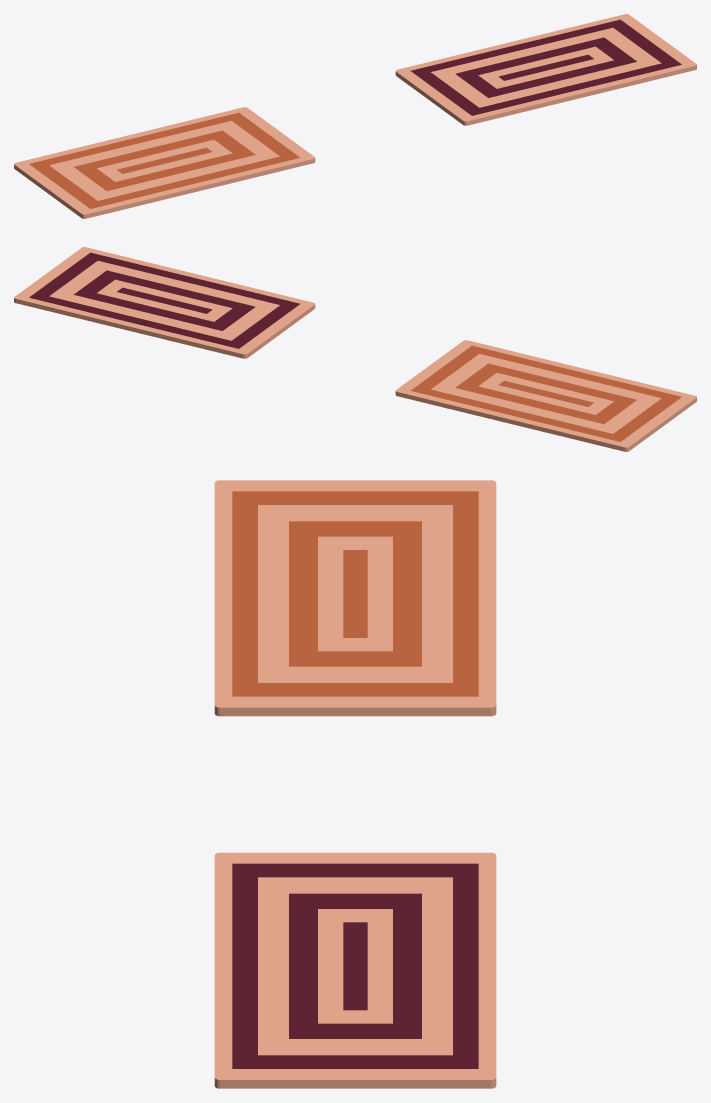
Rendered from tapetes.fbx.
3 views of the same model, one above another, from view 1: azimuth 30°, elevation 25°; view 2: azimuth 150°, elevation 25°; view 3: azimuth 270°, elevation 25° (orthographic). The views are drawn at different scales.
Visible parts, largest first — view 1: TapeteQuadrado, TapeteQuadrado.001; view 2: TapeteQuadrado, TapeteQuadrado.001; view 3: TapeteQuadrado, TapeteQuadrado.001.
Boxes of the visible parts, bbox=[...] form: TapeteQuadrado: bbox=[14, 107, 315, 218]; TapeteQuadrado.001: bbox=[395, 14, 696, 125]; TapeteQuadrado: bbox=[395, 340, 696, 451]; TapeteQuadrado.001: bbox=[14, 247, 315, 358]; TapeteQuadrado: bbox=[214, 480, 496, 716]; TapeteQuadrado.001: bbox=[214, 852, 496, 1088].
Bounding box in the file's own units: 582 × 3.93 × 116.
